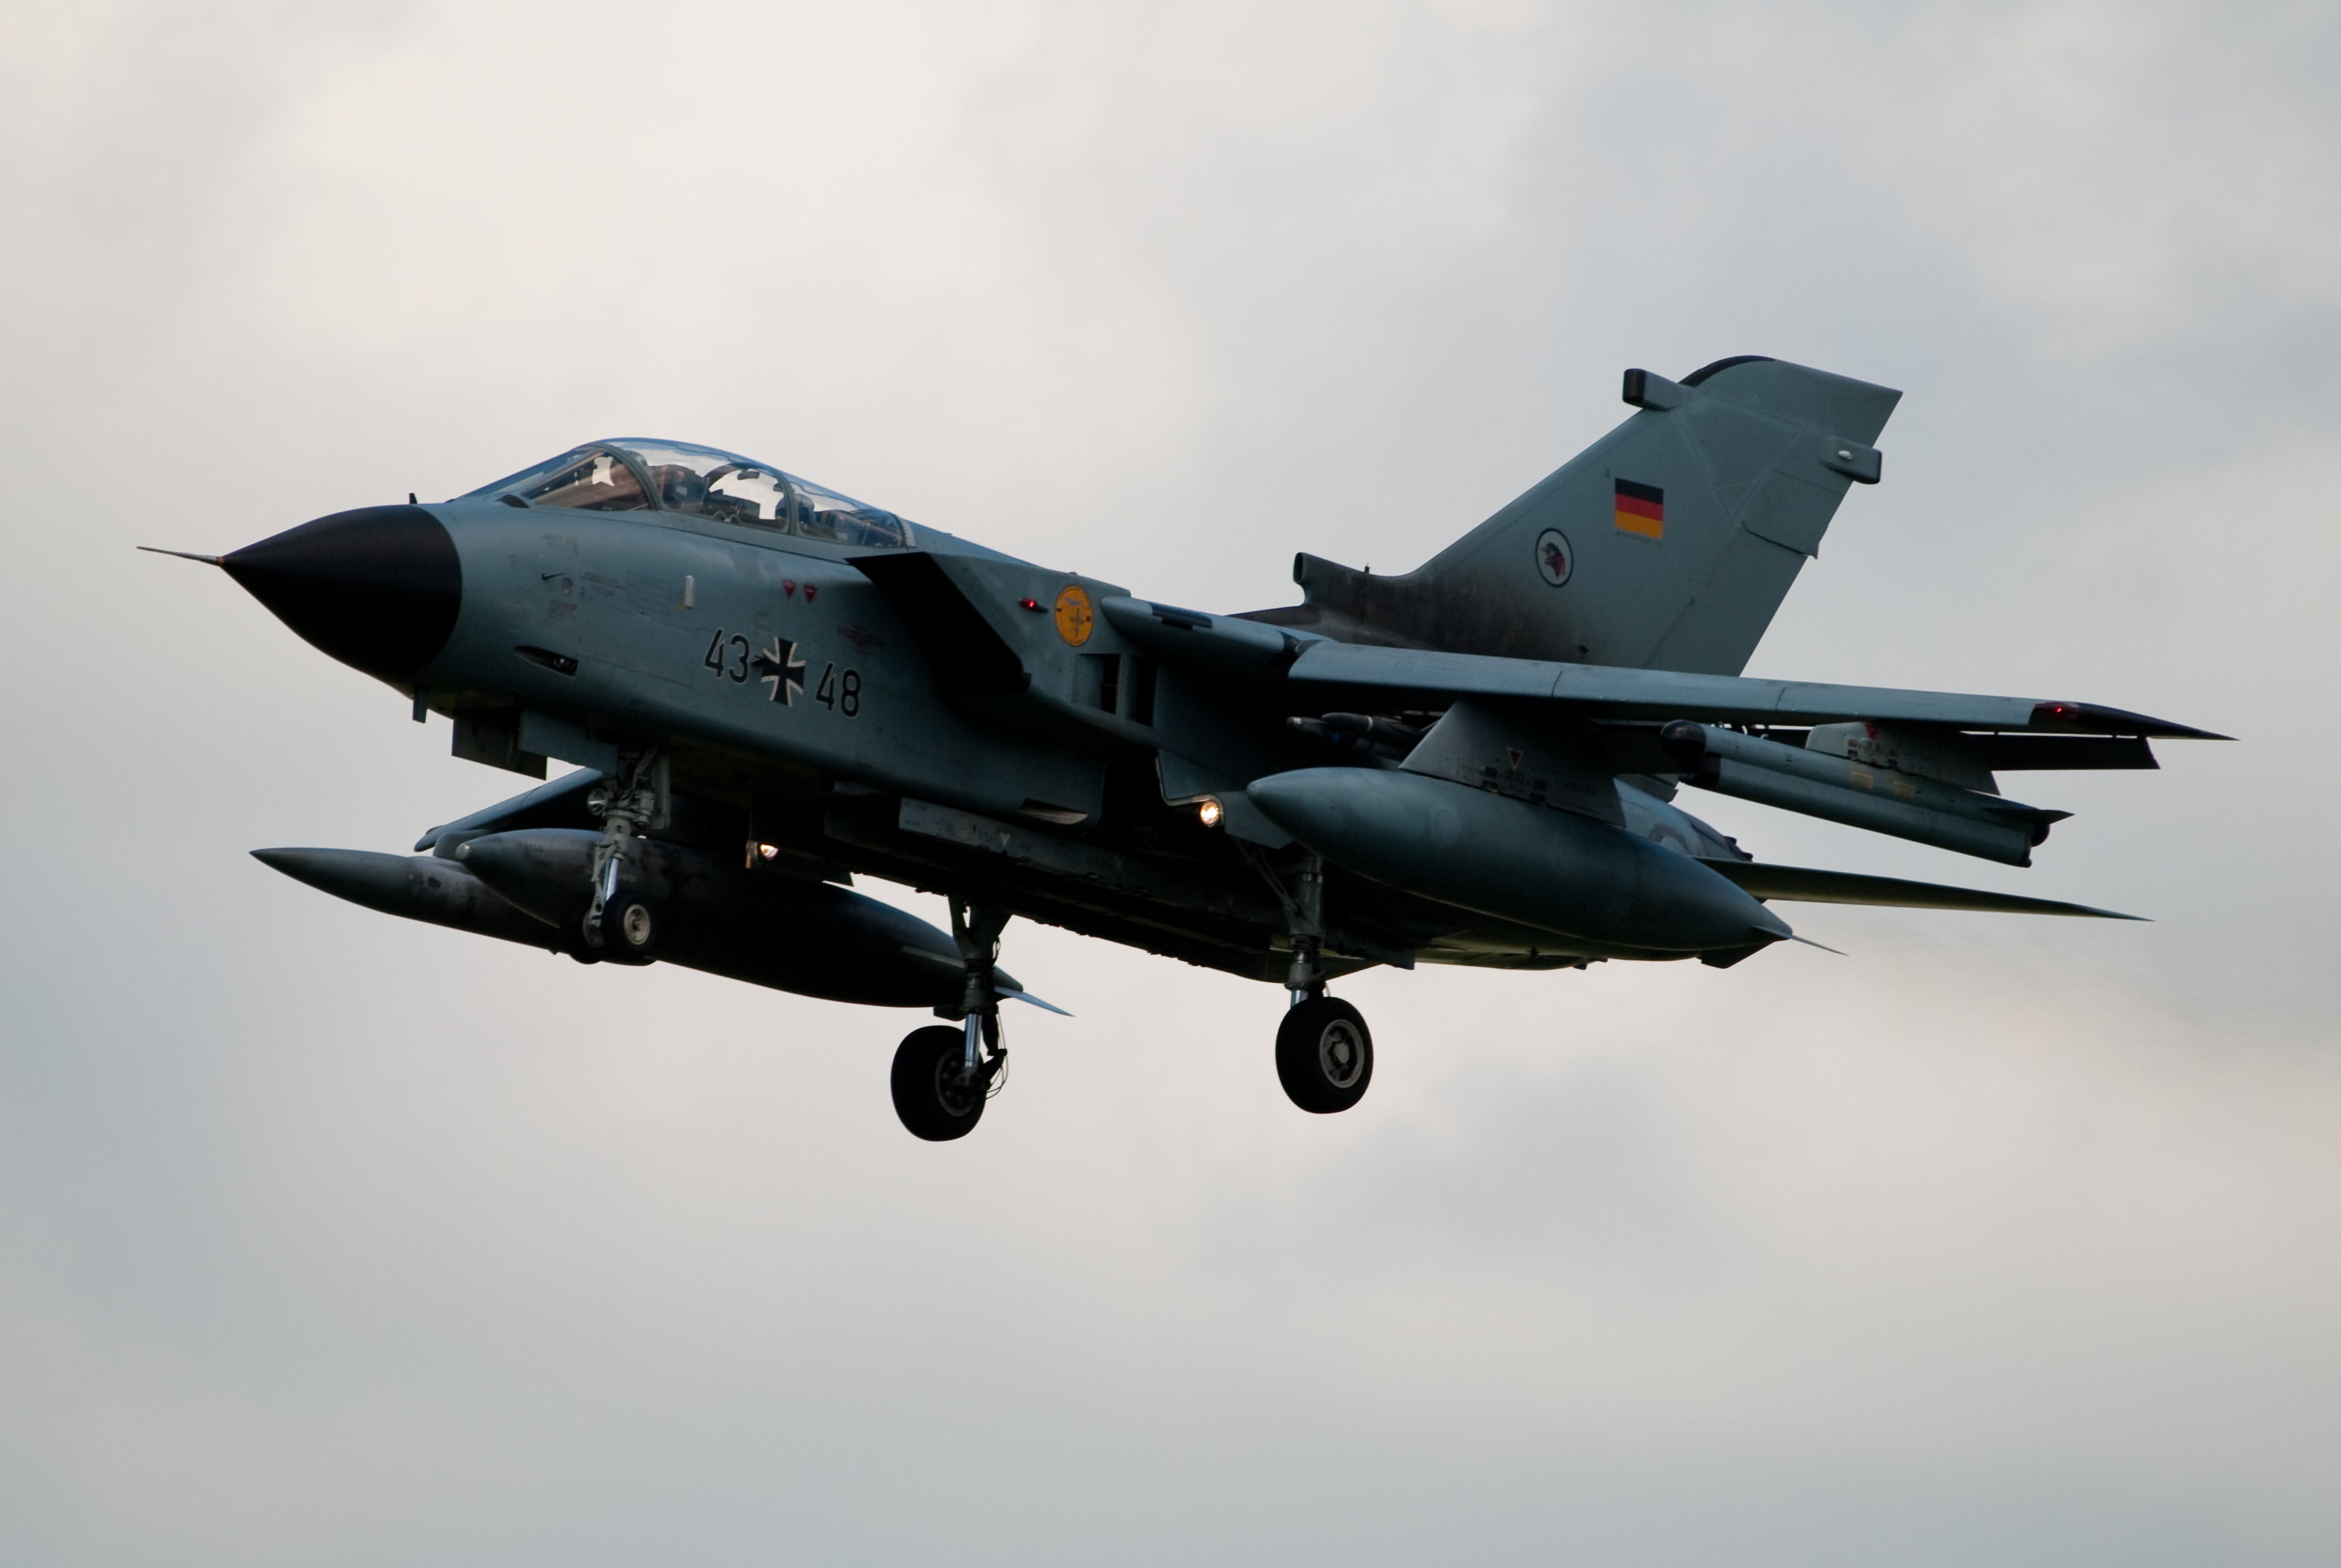Tornado: (135, 353, 2241, 1143)
